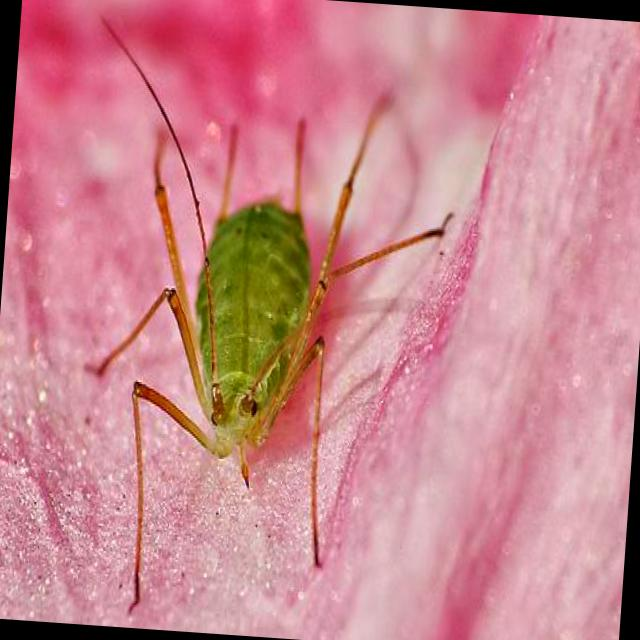Aphids: (56, 61, 454, 618)
